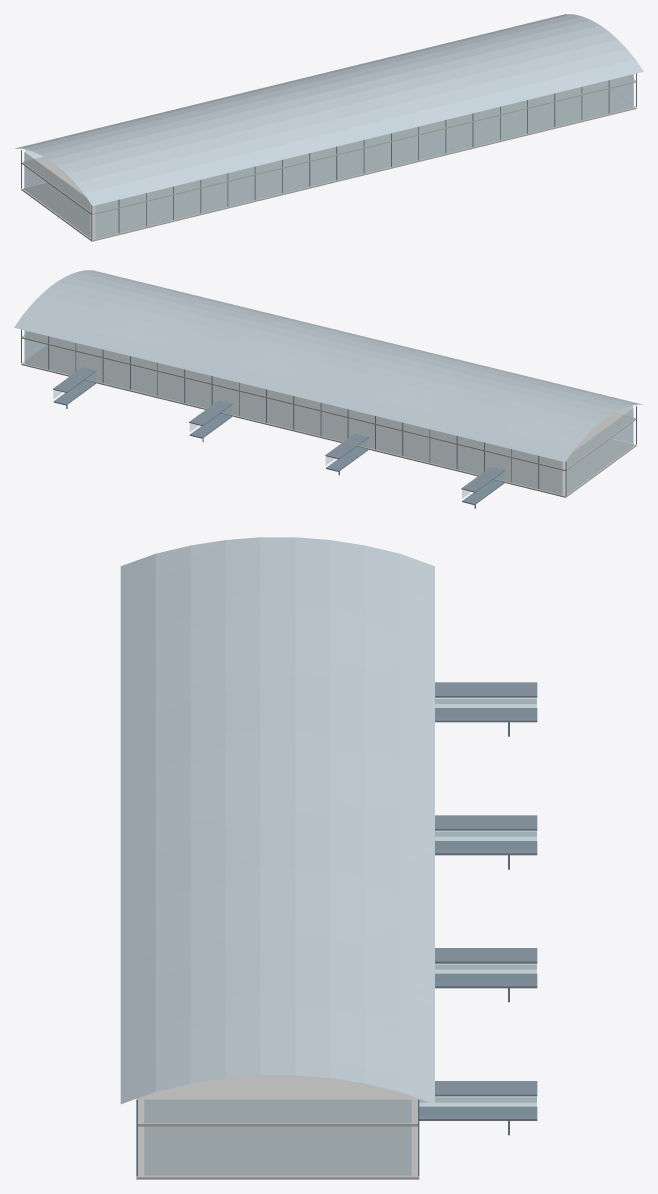
File: AIR03_hlod.glb
3 views of the same model, one above another, from view 1: azimuth 30°, elevation 25°; view 2: azimuth 150°, elevation 25°; view 3: azimuth 270°, elevation 25° (orthographic). The views are drawn at different scales.
Visible parts, largest first — view 1: Roof__HLOD_roof, Structure__HLOD_concrete, Facade__HLOD_glass, Structure__HLOD_steel; view 2: Roof__HLOD_roof, Structure__HLOD_concrete, Facade__HLOD_glass, Structure__HLOD_steel; view 3: Roof__HLOD_roof, Structure__HLOD_concrete, Facade__HLOD_glass, Structure__HLOD_steel.
Boxes of the visible parts, x1,y1,x2,y2 form: Roof__HLOD_roof: (15,14,643,205); Structure__HLOD_concrete: (21,75,636,241); Facade__HLOD_glass: (24,74,633,238); Structure__HLOD_steel: (21,73,636,239); Roof__HLOD_roof: (14,270,642,461); Structure__HLOD_concrete: (21,331,636,497); Facade__HLOD_glass: (24,330,633,501); Structure__HLOD_steel: (21,329,636,508); Roof__HLOD_roof: (120,537,434,1104); Structure__HLOD_concrete: (136,1075,419,1179); Facade__HLOD_glass: (144,698,536,1175); Structure__HLOD_steel: (136,682,537,1176).
Size of the model in its own units: 162 by 18.27 by 53.
